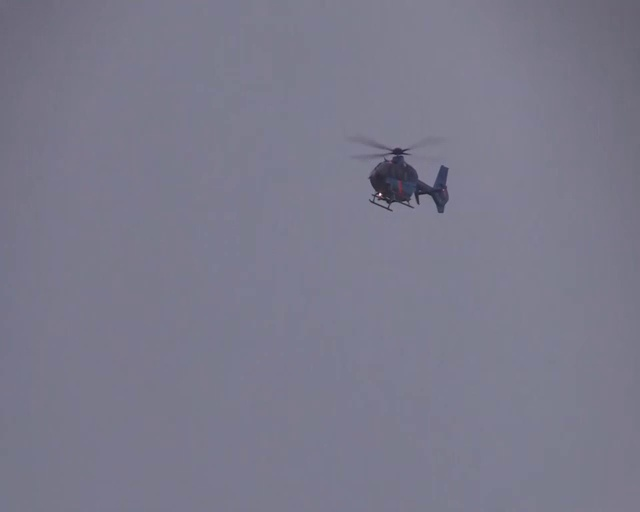HELICOPTER: (346, 133, 451, 214)
